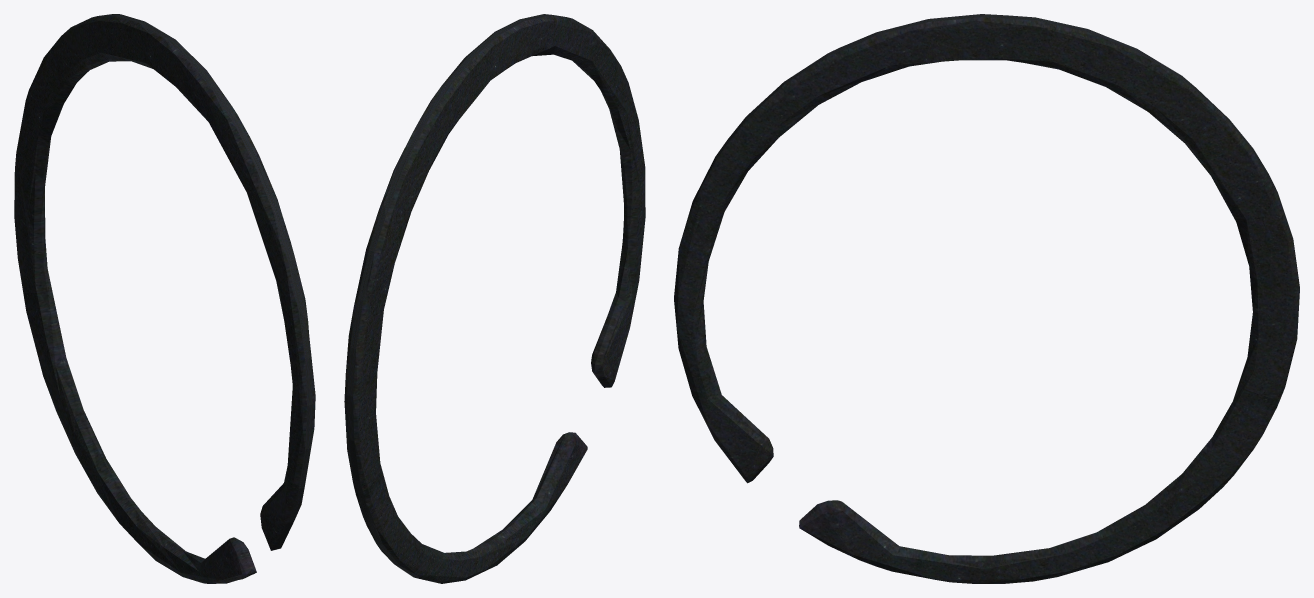
The model's file is Bolt_Ring.dae.
The picture shows the model from 3 angles, left to right: view 1: azimuth 30°, elevation 25°; view 2: azimuth 150°, elevation 25°; view 3: azimuth 270°, elevation 25°; orthographic projection. The views are drawn at different scales.
Parts seen in each view (by area): view 1: Bolt_Ring; view 2: Bolt_Ring; view 3: Bolt_Ring.
Boxes of the visible parts, box(x1,y1,x2,y2) form: Bolt_Ring: box(14, 14, 315, 583); Bolt_Ring: box(344, 14, 645, 583); Bolt_Ring: box(674, 14, 1299, 583).
Bounding box in the file's own units: 0.000396 × 0.0127 × 0.0127.
1 material, 1 textured.
